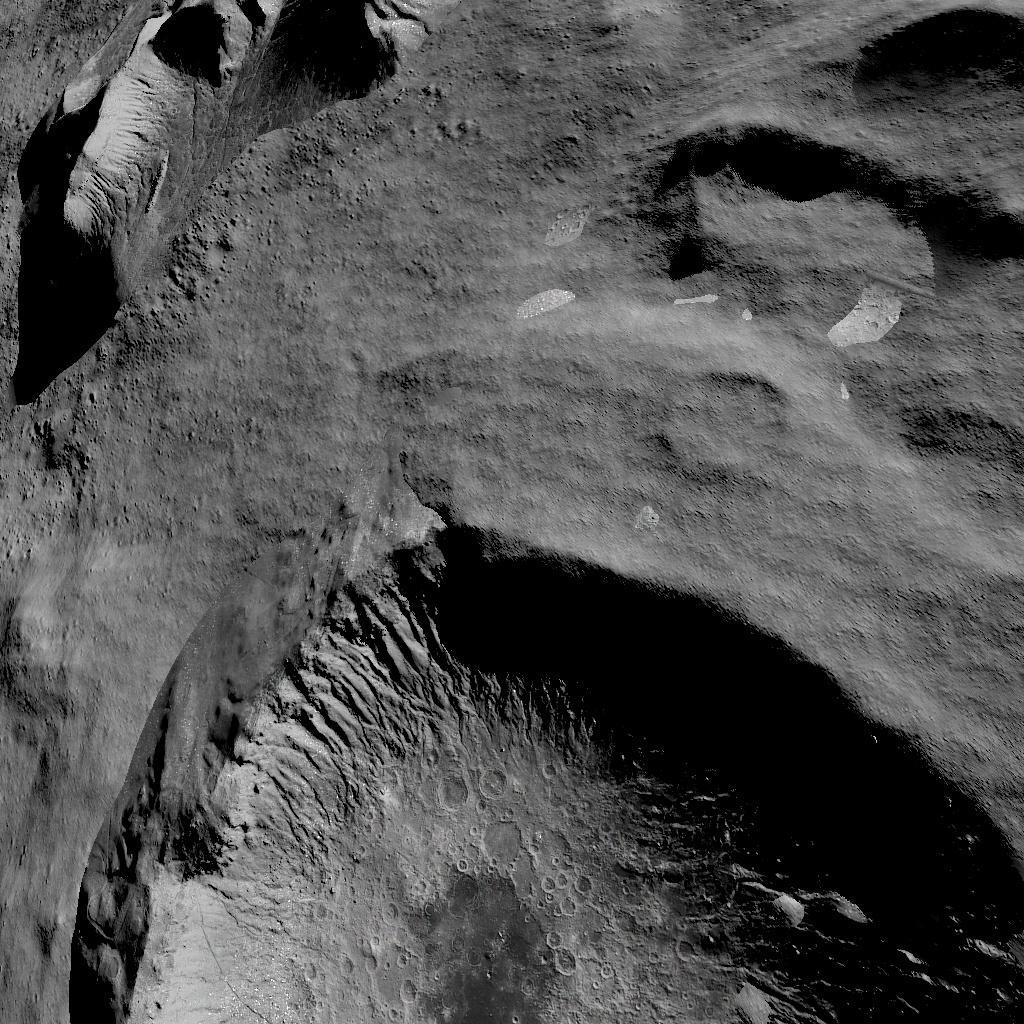Boulders: (3, 0, 451, 401)
Crater: (5, 502, 1024, 1022), (630, 12, 1024, 302), (645, 351, 780, 486)
